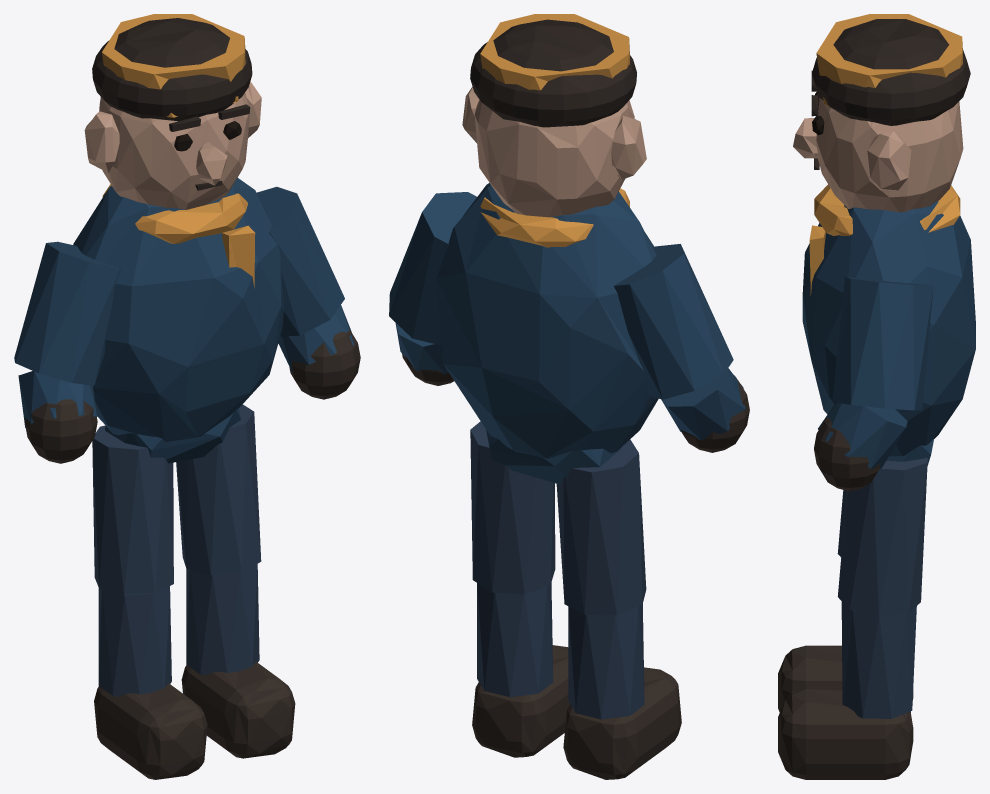
File: hf-player-winter.glb
The picture shows the model from 3 angles, left to right: view 1: azimuth 30°, elevation 25°; view 2: azimuth 150°, elevation 25°; view 3: azimuth 270°, elevation 25°; orthographic projection. The views are drawn at different scales.
Visible parts, largest first — view 1: PLAYER_MONGOLIAN_WINTER_FIT_PARKA, PLAYER_MONGOLIAN_WINTER_FIT_LOWER_LEG, PLAYER_MONGOLIAN_WINTER_FIT_LOWER_LEG.001, PLAYER_MONGOLIAN_WINTER_FIT_EAR, PLAYER_MONGOLIAN_WINTER_FIT_SLEEVE_LOWER, PLAYER_MONGOLIAN_WINTER_FIT_BROW, PLAYER_MONGOLIAN_WINTER_FIT_SLEEVE_LOWER.001, PLAYER_MONGOLIAN_WINTER_FIT_BEANIE, PLAYER_MONGOLIAN_WINTER_FIT_WINTER_BOOT, PLAYER_MONGOLIAN_WINTER_FIT_WINTER_BOOT.001, PLAYER_MONGOLIAN_WINTER_FIT_GLOVE, PLAYER_MONGOLIAN_WINTER_FIT_GLOVE.001; view 2: PLAYER_MONGOLIAN_WINTER_FIT_PARKA, PLAYER_MONGOLIAN_WINTER_FIT_LOWER_LEG, PLAYER_MONGOLIAN_WINTER_FIT_LOWER_LEG.001, PLAYER_MONGOLIAN_WINTER_FIT_SLEEVE_LOWER, PLAYER_MONGOLIAN_WINTER_FIT_EAR, PLAYER_MONGOLIAN_WINTER_FIT_BROW, PLAYER_MONGOLIAN_WINTER_FIT_SLEEVE_LOWER.001, PLAYER_MONGOLIAN_WINTER_FIT_WINTER_BOOT, PLAYER_MONGOLIAN_WINTER_FIT_BEANIE, PLAYER_MONGOLIAN_WINTER_FIT_WINTER_BOOT.001, PLAYER_MONGOLIAN_WINTER_FIT_GLOVE; view 3: PLAYER_MONGOLIAN_WINTER_FIT_PARKA, PLAYER_MONGOLIAN_WINTER_FIT_LOWER_LEG.001, PLAYER_MONGOLIAN_WINTER_FIT_SLEEVE_LOWER.001, PLAYER_MONGOLIAN_WINTER_FIT_EAR, PLAYER_MONGOLIAN_WINTER_FIT_BROW, PLAYER_MONGOLIAN_WINTER_FIT_WINTER_BOOT.001, PLAYER_MONGOLIAN_WINTER_FIT_BEANIE, PLAYER_MONGOLIAN_WINTER_FIT_WINTER_BOOT, PLAYER_MONGOLIAN_WINTER_FIT_GLOVE.001.
Boxes of the visible parts, x1,y1,x2,y2 form: PLAYER_MONGOLIAN_WINTER_FIT_PARKA: [73, 177, 284, 463]; PLAYER_MONGOLIAN_WINTER_FIT_LOWER_LEG: [92, 425, 173, 696]; PLAYER_MONGOLIAN_WINTER_FIT_LOWER_LEG.001: [176, 404, 261, 675]; PLAYER_MONGOLIAN_WINTER_FIT_EAR: [84, 81, 261, 209]; PLAYER_MONGOLIAN_WINTER_FIT_SLEEVE_LOWER: [14, 241, 120, 427]; PLAYER_MONGOLIAN_WINTER_FIT_BROW: [92, 18, 252, 190]; PLAYER_MONGOLIAN_WINTER_FIT_SLEEVE_LOWER.001: [257, 186, 354, 371]; PLAYER_MONGOLIAN_WINTER_FIT_BEANIE: [102, 14, 255, 288]; PLAYER_MONGOLIAN_WINTER_FIT_WINTER_BOOT: [94, 683, 207, 779]; PLAYER_MONGOLIAN_WINTER_FIT_WINTER_BOOT.001: [181, 662, 295, 758]; PLAYER_MONGOLIAN_WINTER_FIT_GLOVE: [24, 399, 97, 463]; PLAYER_MONGOLIAN_WINTER_FIT_GLOVE.001: [289, 329, 360, 399]; PLAYER_MONGOLIAN_WINTER_FIT_PARKA: [436, 183, 658, 484]; PLAYER_MONGOLIAN_WINTER_FIT_LOWER_LEG: [556, 439, 646, 719]; PLAYER_MONGOLIAN_WINTER_FIT_LOWER_LEG.001: [470, 421, 555, 697]; PLAYER_MONGOLIAN_WINTER_FIT_SLEEVE_LOWER: [614, 244, 745, 440]; PLAYER_MONGOLIAN_WINTER_FIT_EAR: [462, 87, 646, 217]; PLAYER_MONGOLIAN_WINTER_FIT_BROW: [470, 19, 636, 127]; PLAYER_MONGOLIAN_WINTER_FIT_SLEEVE_LOWER.001: [389, 192, 476, 374]; PLAYER_MONGOLIAN_WINTER_FIT_WINTER_BOOT: [563, 667, 681, 779]; PLAYER_MONGOLIAN_WINTER_FIT_BEANIE: [480, 14, 629, 247]; PLAYER_MONGOLIAN_WINTER_FIT_WINTER_BOOT.001: [472, 645, 569, 757]; PLAYER_MONGOLIAN_WINTER_FIT_GLOVE: [681, 375, 749, 452]; PLAYER_MONGOLIAN_WINTER_FIT_PARKA: [802, 201, 975, 466]; PLAYER_MONGOLIAN_WINTER_FIT_LOWER_LEG.001: [837, 457, 927, 718]; PLAYER_MONGOLIAN_WINTER_FIT_SLEEVE_LOWER.001: [818, 276, 933, 468]; PLAYER_MONGOLIAN_WINTER_FIT_EAR: [793, 98, 963, 212]; PLAYER_MONGOLIAN_WINTER_FIT_BROW: [811, 19, 970, 169]; PLAYER_MONGOLIAN_WINTER_FIT_WINTER_BOOT.001: [778, 689, 913, 779]; PLAYER_MONGOLIAN_WINTER_FIT_BEANIE: [809, 14, 962, 295]; PLAYER_MONGOLIAN_WINTER_FIT_WINTER_BOOT: [778, 645, 913, 712]; PLAYER_MONGOLIAN_WINTER_FIT_GLOVE.001: [814, 417, 879, 491].
Size of the model in its own units: 0.97 by 1.99 by 0.4979.
